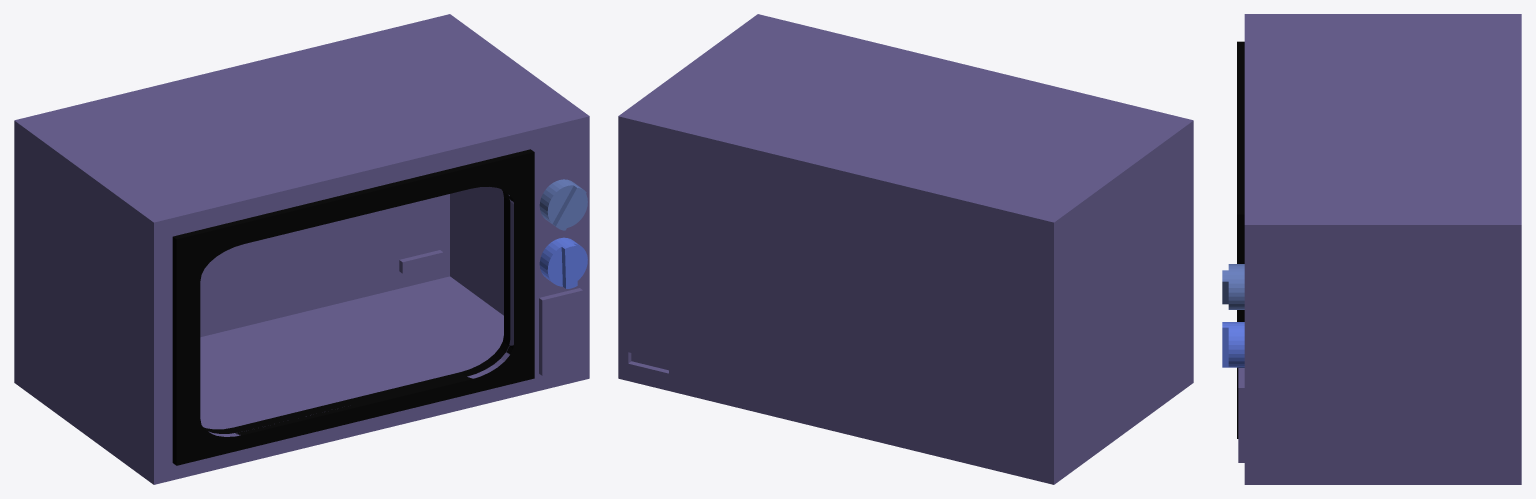
File: screenxd.glb
3 views of the same model, side by side, from view 1: azimuth 30°, elevation 25°; view 2: azimuth 150°, elevation 25°; view 3: azimuth 270°, elevation 25° (orthographic).
Visible parts, largest first — view 1: Cube, Monitor, Cube.003, Cube.002; view 2: Cube; view 3: Cube, Monitor, Cube.003, Cube.002.
Boxes of the visible parts, x1=… form: Cube: x1=14, y1=14, x2=589, y2=484; Monitor: x1=172, y1=149, x2=534, y2=465; Cube.003: x1=539, y1=237, x2=587, y2=288; Cube.002: x1=539, y1=179, x2=587, y2=230; Cube: x1=618, y1=14, x2=1193, y2=484; Cube: x1=1238, y1=14, x2=1521, y2=484; Monitor: x1=1237, y1=41, x2=1244, y2=438; Cube.003: x1=1222, y1=322, x2=1244, y2=367; Cube.002: x1=1222, y1=264, x2=1244, y2=309.
Bounding box in the file's own units: 3.72 × 2.14 × 2.23.
